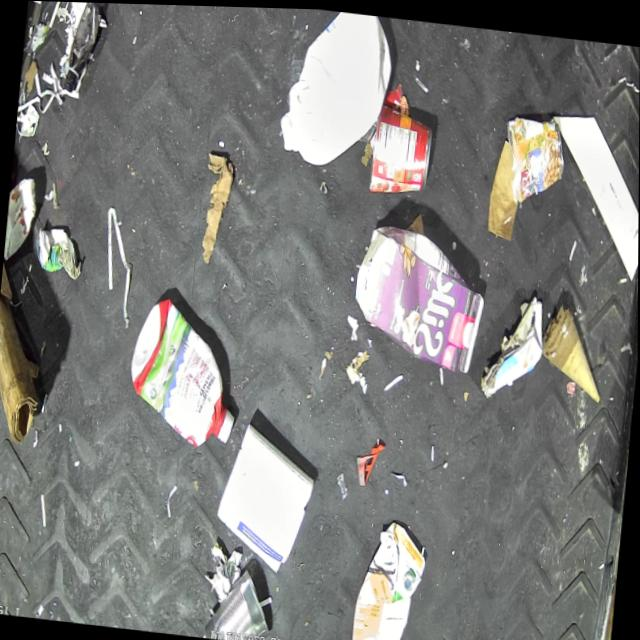can: (366, 100, 434, 197), (498, 110, 567, 204), (202, 561, 275, 640), (3, 174, 38, 262)
milk_jug: (273, 6, 394, 171)
non_white_jug: (349, 215, 489, 371), (123, 292, 244, 449), (349, 511, 428, 640)
